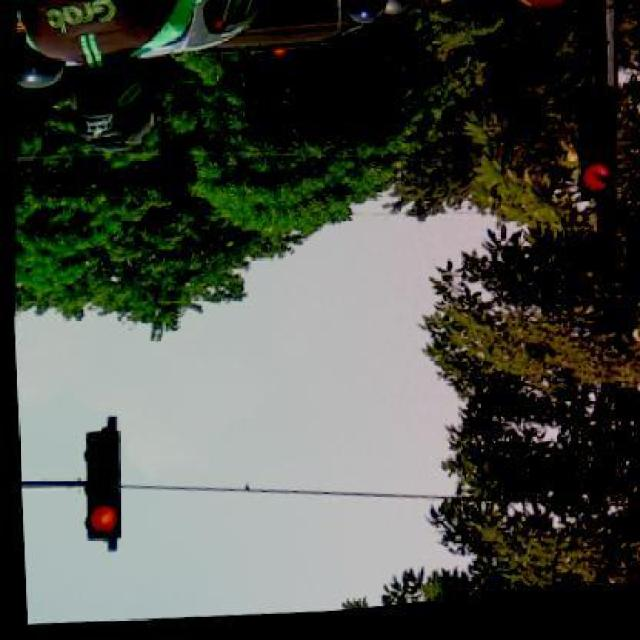Traffic Light -Red-: (69, 420, 129, 555)
